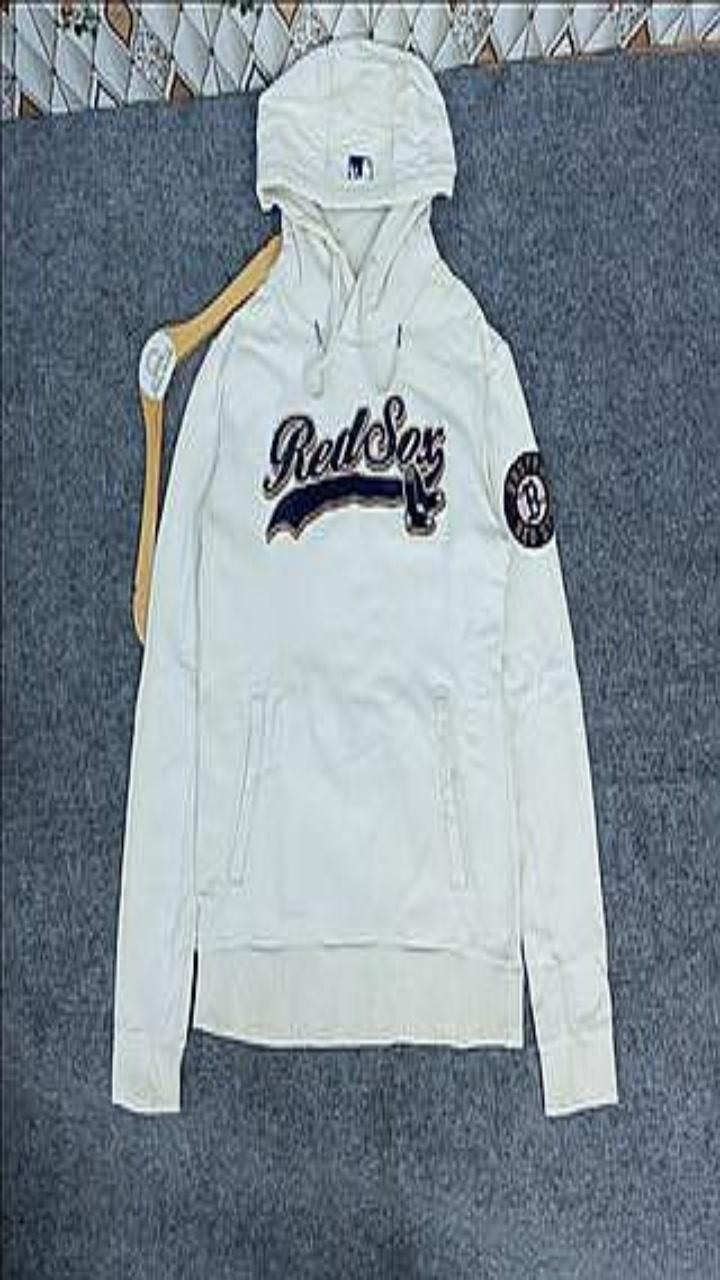Hoodie: (112, 38, 616, 1115)
